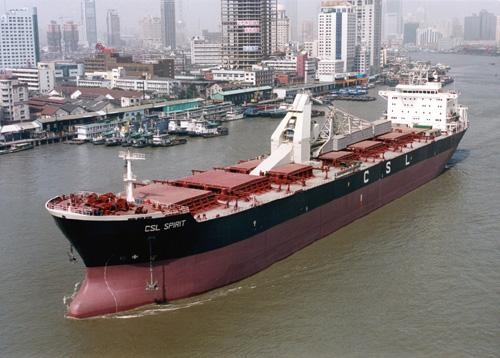Cargoship: (42, 50, 471, 324)
